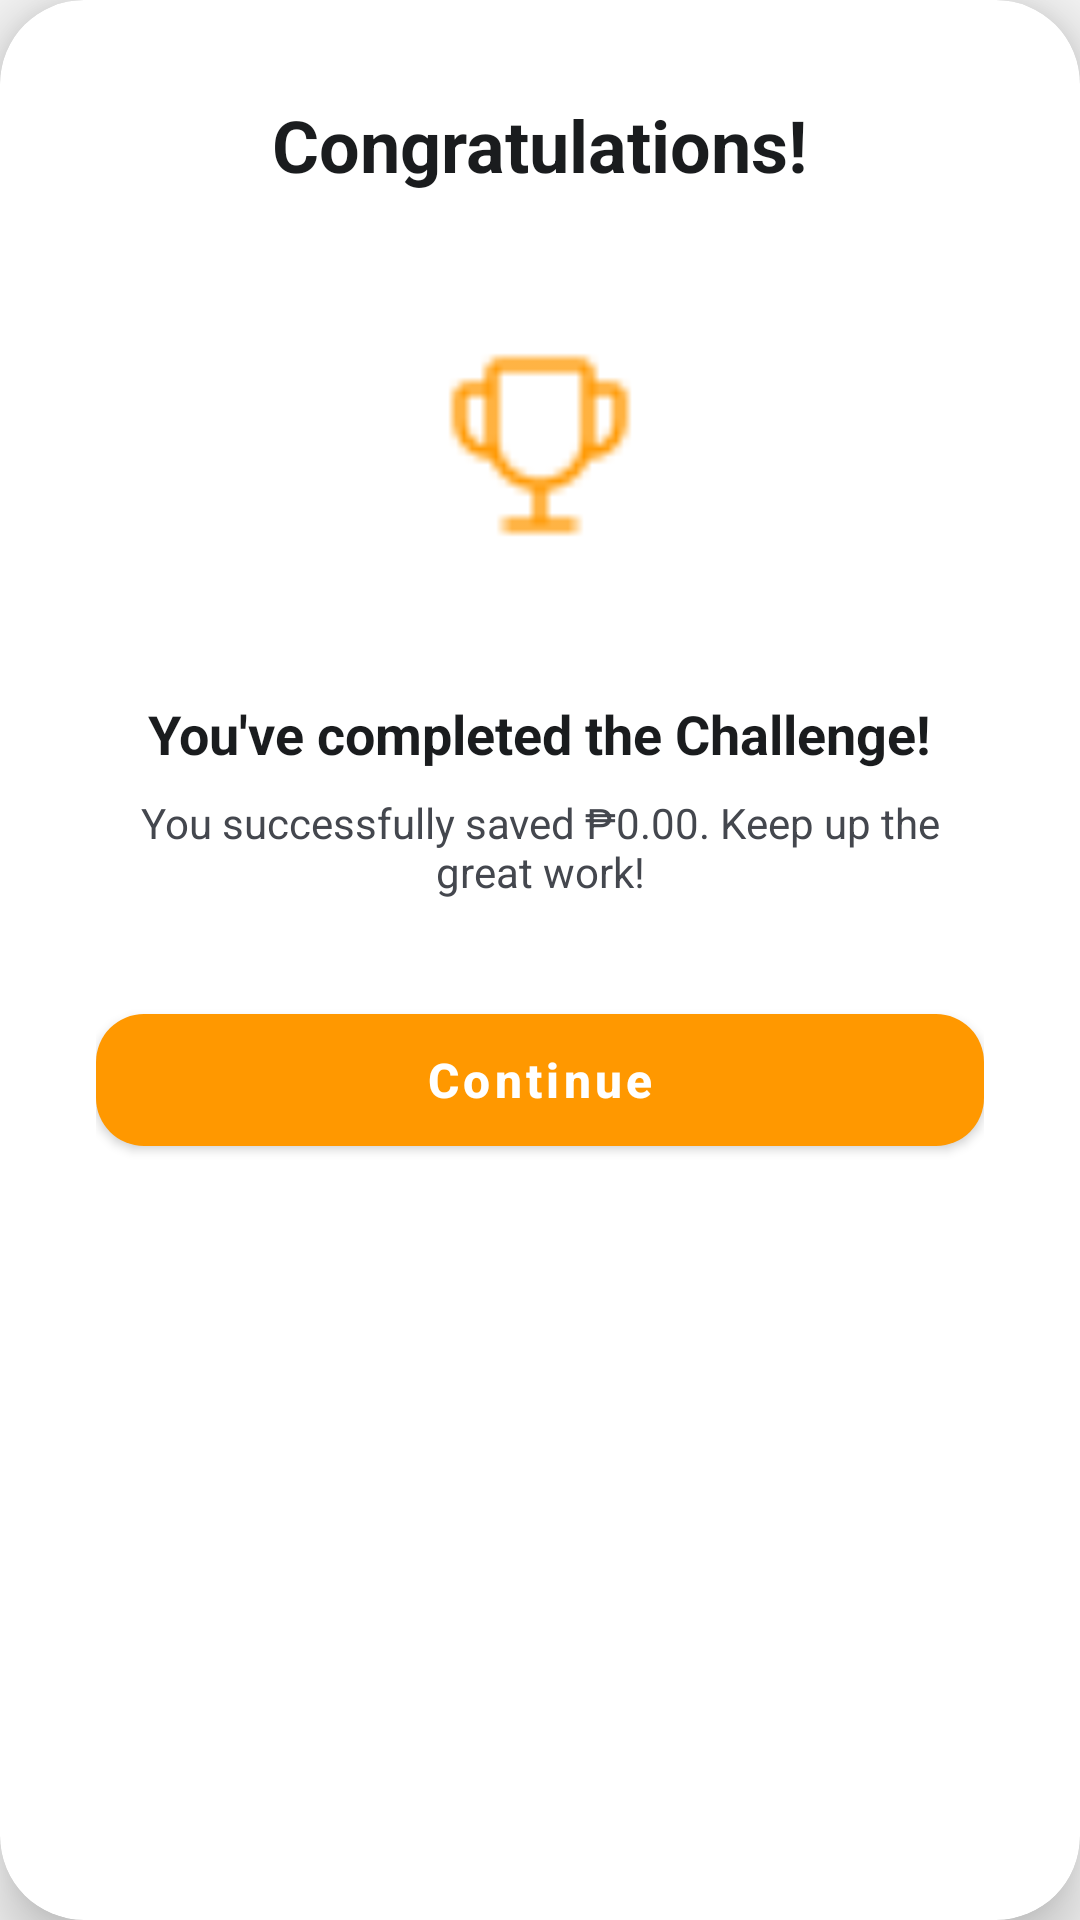

Point at icon controls on the screen. Image size 1080px×1920px, points as (x,y).
Trophy: (540,445)
